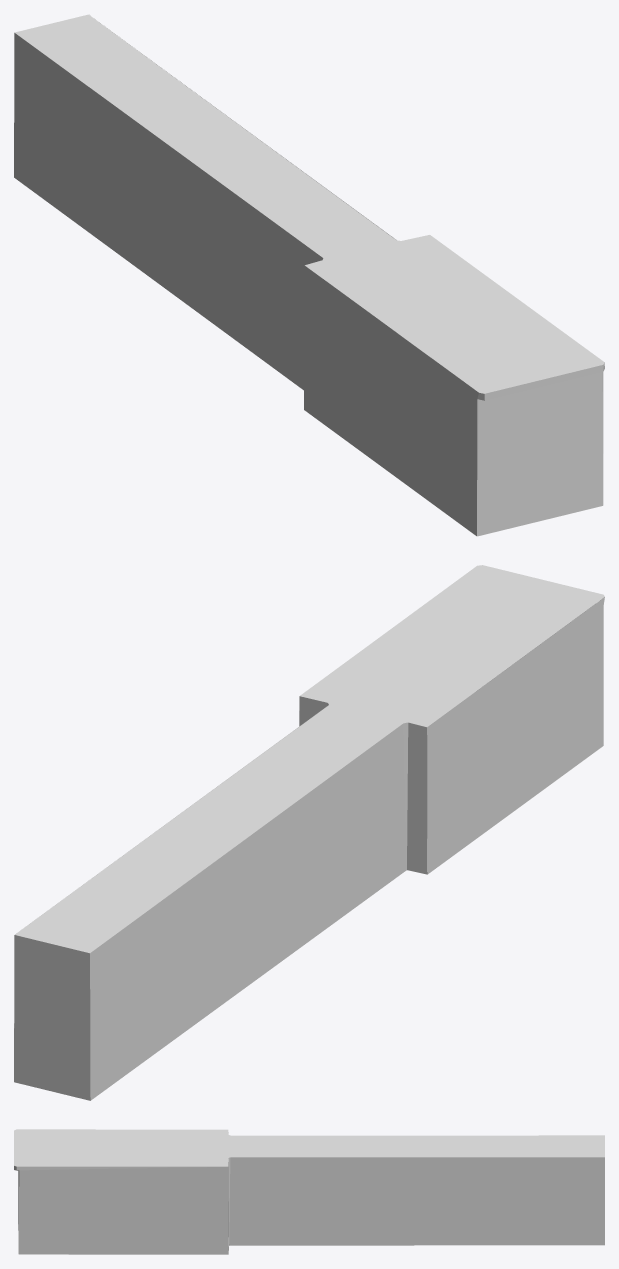
File: piano_key_G.gltf
3 views of the same model, one above another, from view 1: azimuth 30°, elevation 25°; view 2: azimuth 150°, elevation 25°; view 3: azimuth 270°, elevation 25° (orthographic). The views are drawn at different scales.
Visible parts, largest first — view 1: defaultMaterial.003; view 2: defaultMaterial.003; view 3: defaultMaterial.003.
Boxes of the visible parts, x1,y1,x2,y2 form: defaultMaterial.003: [14, 14, 604, 536]; defaultMaterial.003: [14, 565, 604, 1100]; defaultMaterial.003: [14, 1129, 604, 1254].
Bounding box in the file's own units: 0.4956 × 0.5392 × 3.29.
1 material, 1 textured.
